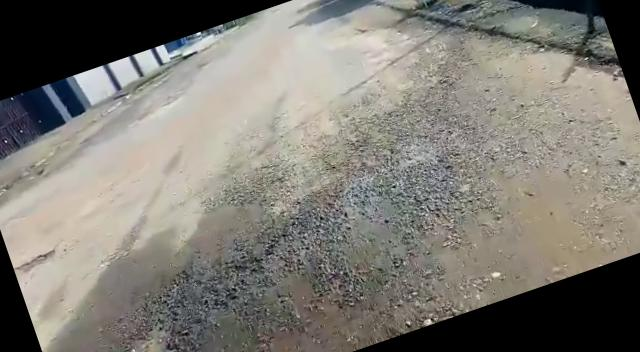pothole: (100, 319, 185, 352)
